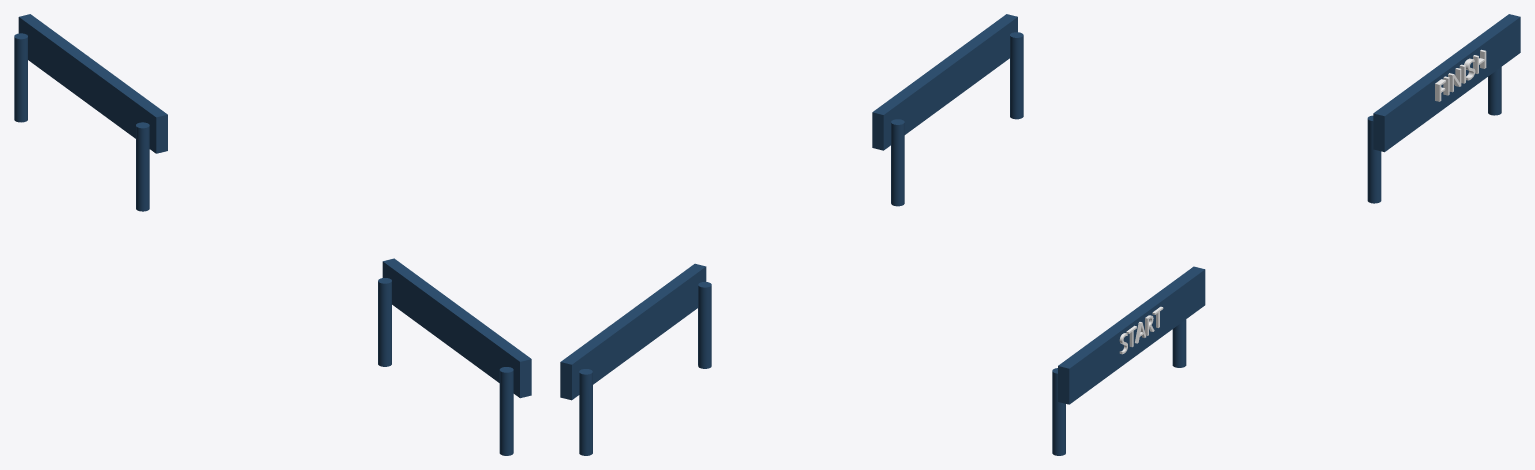
Rendered from finishline.fbx.
The picture shows the model from 3 angles, left to right: view 1: azimuth 30°, elevation 25°; view 2: azimuth 150°, elevation 25°; view 3: azimuth 330°, elevation 25°; orthographic projection. The views are drawn at different scales.
Visible parts, largest first — view 1: Component_3_1, box, cylinder, cylinder1; view 2: Component_3_1, box, cylinder, cylinder1; view 3: Component_3_1, box, FINISH_2_1, cylinder, cylinder1, START1.
Boxes of the visible parts, box(x1,y1,x2,y2) form: Component_3_1: box(14, 14, 167, 211); box: box(382, 258, 531, 398); cylinder: box(499, 367, 513, 455); cylinder1: box(378, 278, 391, 366); Component_3_1: box(560, 263, 711, 455); box: box(872, 14, 1017, 150); cylinder: box(1010, 32, 1023, 119); cylinder1: box(891, 119, 904, 206); Component_3_1: box(1367, 14, 1520, 203); box: box(1058, 266, 1205, 404); FINISH_2_1: box(1435, 49, 1486, 101); cylinder: box(1052, 368, 1065, 455); cylinder1: box(1172, 319, 1186, 367); START1: box(1119, 306, 1163, 354).
Size of the model in its own units: 5.47 by 10.16 by 92.72.
